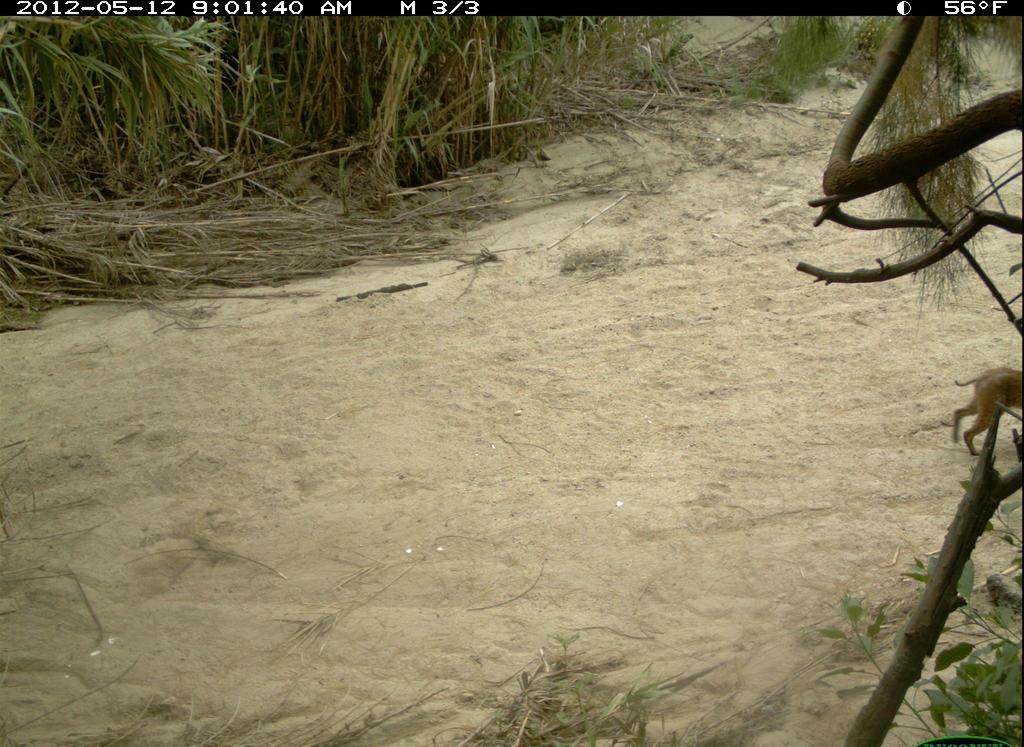bobcat: (943, 351, 1024, 459)
